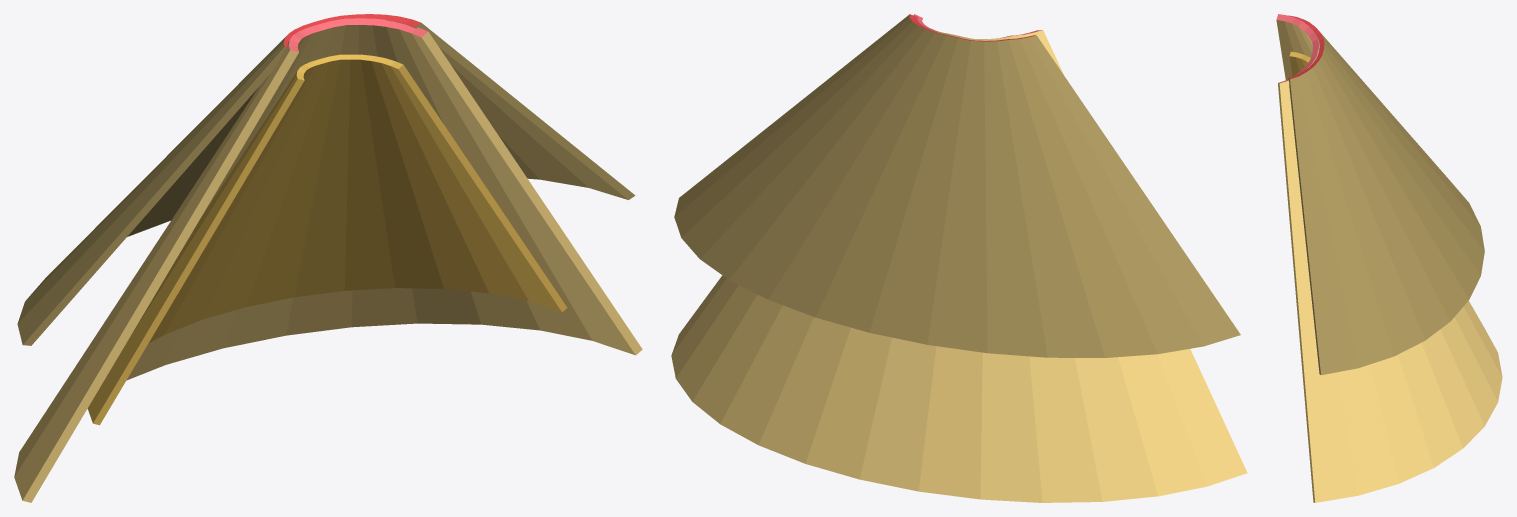
File: Capa_paja.fbx
3 views of the same model, side by side, from view 1: azimuth 30°, elevation 25°; view 2: azimuth 150°, elevation 25°; view 3: azimuth 270°, elevation 25° (orthographic). The views are drawn at different scales.
Visible parts, largest first — view 1: Cone.003; view 2: Cone.003; view 3: Cone.003.
Boxes of the visible parts, <box> form: Cone.003: <box>14,14,642,502</box>; Cone.003: <box>671,14,1247,502</box>; Cone.003: <box>1276,14,1502,502</box>.
Size of the model in its own units: 6119 by 3871 by 2332.
